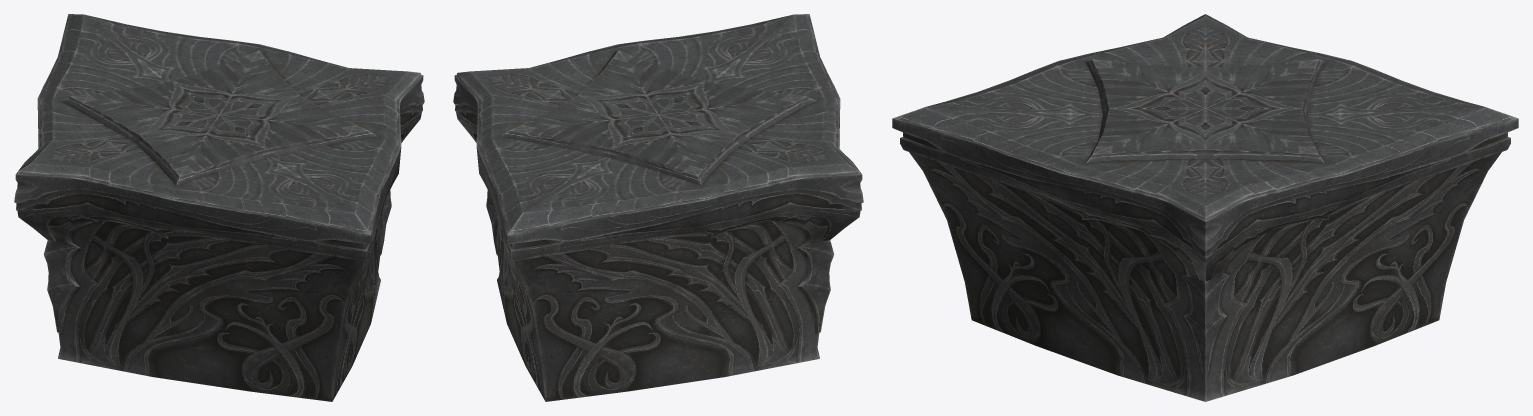
Rendered from bg_rad_kamen_pillar08a_sm_alchemy.obj.
3 views of the same model, side by side, from view 1: azimuth 30°, elevation 25°; view 2: azimuth 150°, elevation 25°; view 3: azimuth 270°, elevation 25° (orthographic). The views are drawn at different scales.
Visible parts, largest first — view 1: bg_rad_kamen_pillar08a_sm_alchemy_0; view 2: bg_rad_kamen_pillar08a_sm_alchemy_0; view 3: bg_rad_kamen_pillar08a_sm_alchemy_0.
Part boxes in pixels (bbox=[...]): bg_rad_kamen_pillar08a_sm_alchemy_0: bbox=[14, 14, 424, 401]; bg_rad_kamen_pillar08a_sm_alchemy_0: bbox=[453, 14, 863, 401]; bg_rad_kamen_pillar08a_sm_alchemy_0: bbox=[892, 14, 1518, 401].
Size of the model in its own units: 5.15 by 2.47 by 6.57.
1 material, 1 textured.
